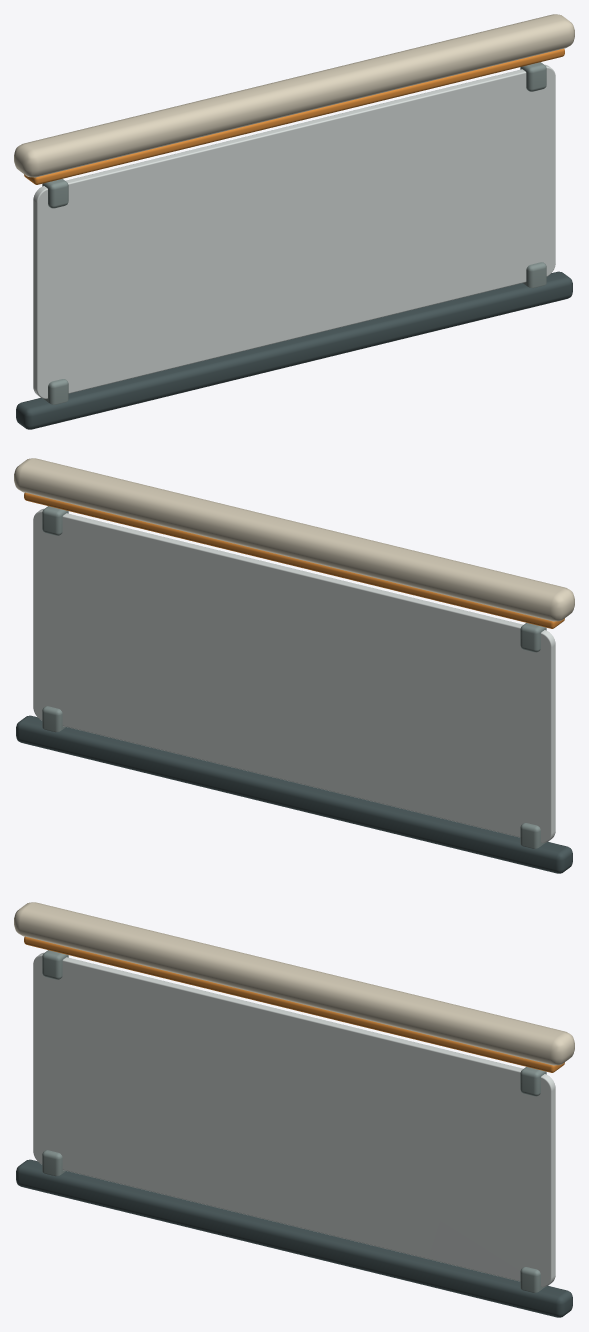
File: deck-rail-2m.glb
3 renders of one model, top to bottom at view 1: azimuth 30°, elevation 25°; view 2: azimuth 150°, elevation 25°; view 3: azimuth 330°, elevation 25°, orthographic.
Parts seen in each view (by area): view 1: deck-rail-2m / 07 • smoked teal glass, deck-rail-2m / 01 • warm porcelain paint, deck-rail-2m / 06 • dark anodized frame, deck-rail-2m / 03 • ochre enamel, deck-rail-2m / 05 • brushed titanium; view 2: deck-rail-2m / 07 • smoked teal glass, deck-rail-2m / 01 • warm porcelain paint, deck-rail-2m / 06 • dark anodized frame, deck-rail-2m / 03 • ochre enamel, deck-rail-2m / 05 • brushed titanium; view 3: deck-rail-2m / 07 • smoked teal glass, deck-rail-2m / 01 • warm porcelain paint, deck-rail-2m / 06 • dark anodized frame, deck-rail-2m / 03 • ochre enamel, deck-rail-2m / 05 • brushed titanium.
Boxes of the visible parts, bbox=[...] form: deck-rail-2m / 07 • smoked teal glass: bbox=[33, 64, 555, 398]; deck-rail-2m / 01 • warm porcelain paint: bbox=[14, 14, 574, 177]; deck-rail-2m / 06 • dark anodized frame: bbox=[16, 271, 572, 429]; deck-rail-2m / 03 • ochre enamel: bbox=[24, 48, 564, 184]; deck-rail-2m / 05 • brushed titanium: bbox=[42, 62, 546, 404]; deck-rail-2m / 07 • smoked teal glass: bbox=[33, 508, 555, 842]; deck-rail-2m / 01 • warm porcelain paint: bbox=[14, 458, 574, 621]; deck-rail-2m / 06 • dark anodized frame: bbox=[16, 715, 572, 873]; deck-rail-2m / 03 • ochre enamel: bbox=[24, 492, 564, 628]; deck-rail-2m / 05 • brushed titanium: bbox=[42, 506, 546, 848]; deck-rail-2m / 07 • smoked teal glass: bbox=[33, 952, 555, 1286]; deck-rail-2m / 01 • warm porcelain paint: bbox=[14, 902, 574, 1065]; deck-rail-2m / 06 • dark anodized frame: bbox=[16, 1159, 572, 1317]; deck-rail-2m / 03 • ochre enamel: bbox=[24, 936, 564, 1072]; deck-rail-2m / 05 • brushed titanium: bbox=[42, 950, 546, 1292].
Bounding box in the file's own units: 1.89 × 0.915 × 0.11.
